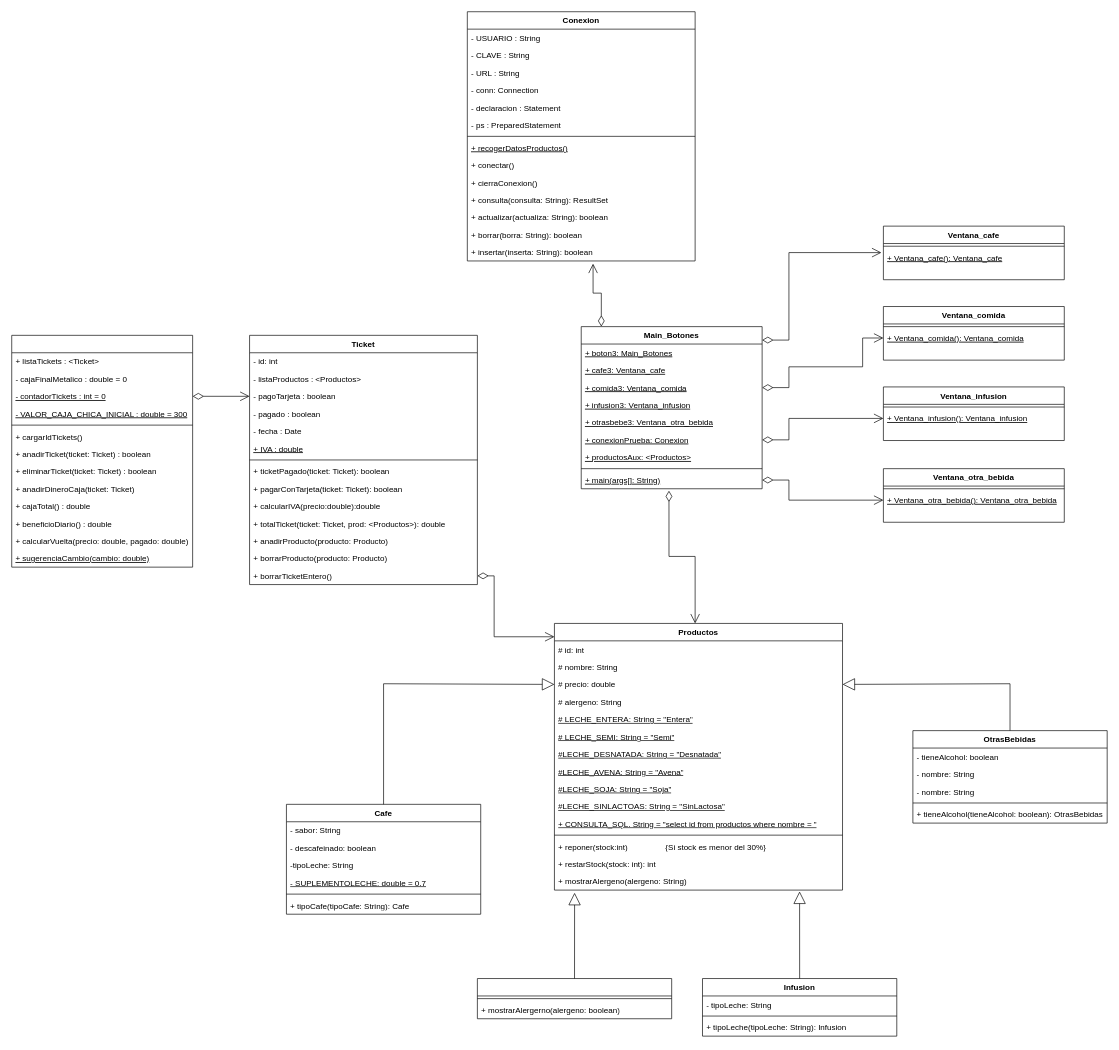
This 1119x1050 diagram has some shape labels left out. Here are the shapes that lost their labels. From the top down, the box of each, then its label:
(11, 335, 193, 567): Cajero
(477, 978, 672, 1019): Comida
